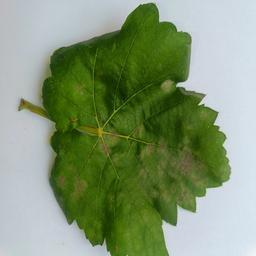Powdery-Mildew: (170, 147, 201, 207), (133, 136, 166, 170), (73, 172, 90, 198), (51, 174, 68, 190), (162, 76, 178, 92), (74, 84, 90, 100)
